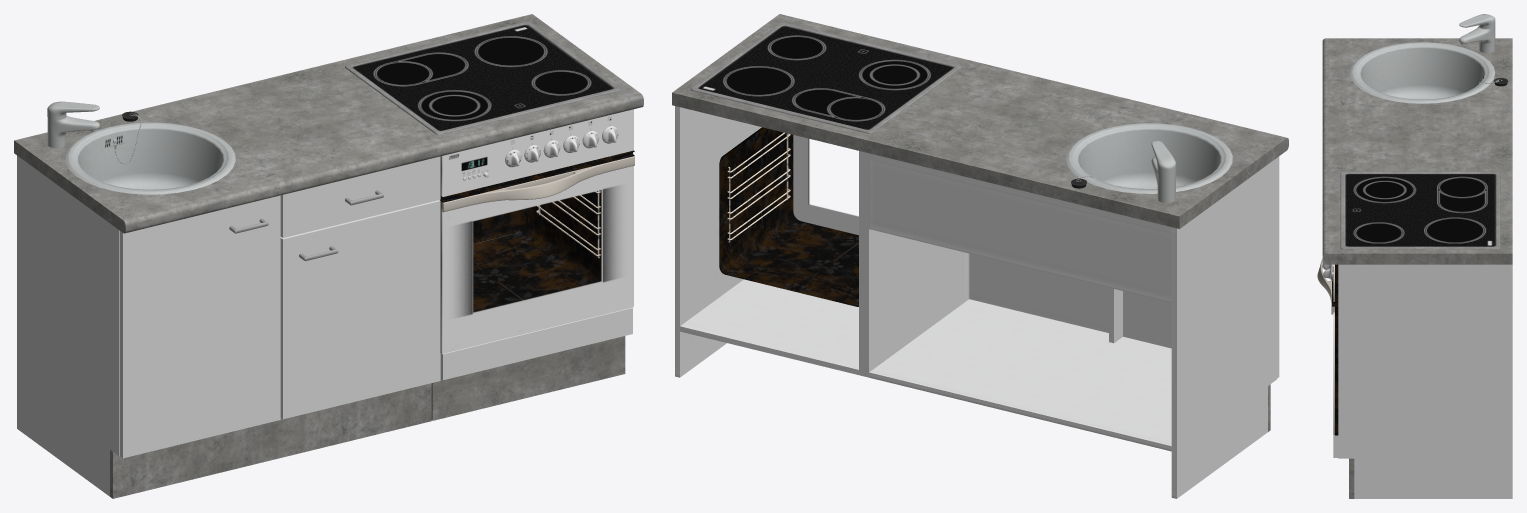
Rendered from small_kitchen_with_oven.glb.
The picture shows the model from 3 angles, left to right: view 1: azimuth 30°, elevation 25°; view 2: azimuth 150°, elevation 25°; view 3: azimuth 270°, elevation 25°; orthographic projection. The views are drawn at different scales.
Parts seen in each view (by area): view 1: #CAB0001_Kitchen_Wood_White_86x160x60; view 2: #CAB0001_Kitchen_Wood_White_86x160x60; view 3: #CAB0001_Kitchen_Wood_White_86x160x60.
Boxes of the visible parts, x1,y1,x2,y2 form: #CAB0001_Kitchen_Wood_White_86x160x60: (14, 14, 643, 498); #CAB0001_Kitchen_Wood_White_86x160x60: (672, 14, 1288, 498); #CAB0001_Kitchen_Wood_White_86x160x60: (1317, 14, 1512, 498).
Size of the model in its own units: 1.61 by 0.9825 by 0.6161.
Materials: 1 (1 with a texture image).
